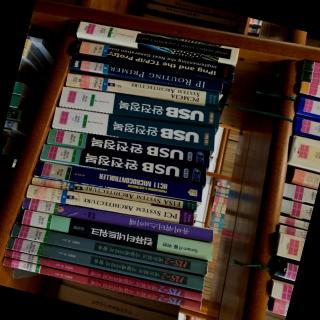book-spine: (5, 237, 205, 291), (2, 257, 201, 310), (10, 223, 208, 276), (15, 209, 214, 261), (3, 250, 202, 301), (21, 196, 214, 242), (33, 159, 203, 202), (51, 106, 216, 150), (75, 21, 239, 65), (25, 184, 194, 226), (39, 144, 207, 186), (58, 86, 220, 129), (71, 39, 235, 81), (45, 128, 210, 168), (30, 177, 197, 211), (64, 73, 219, 107), (69, 58, 222, 92)
